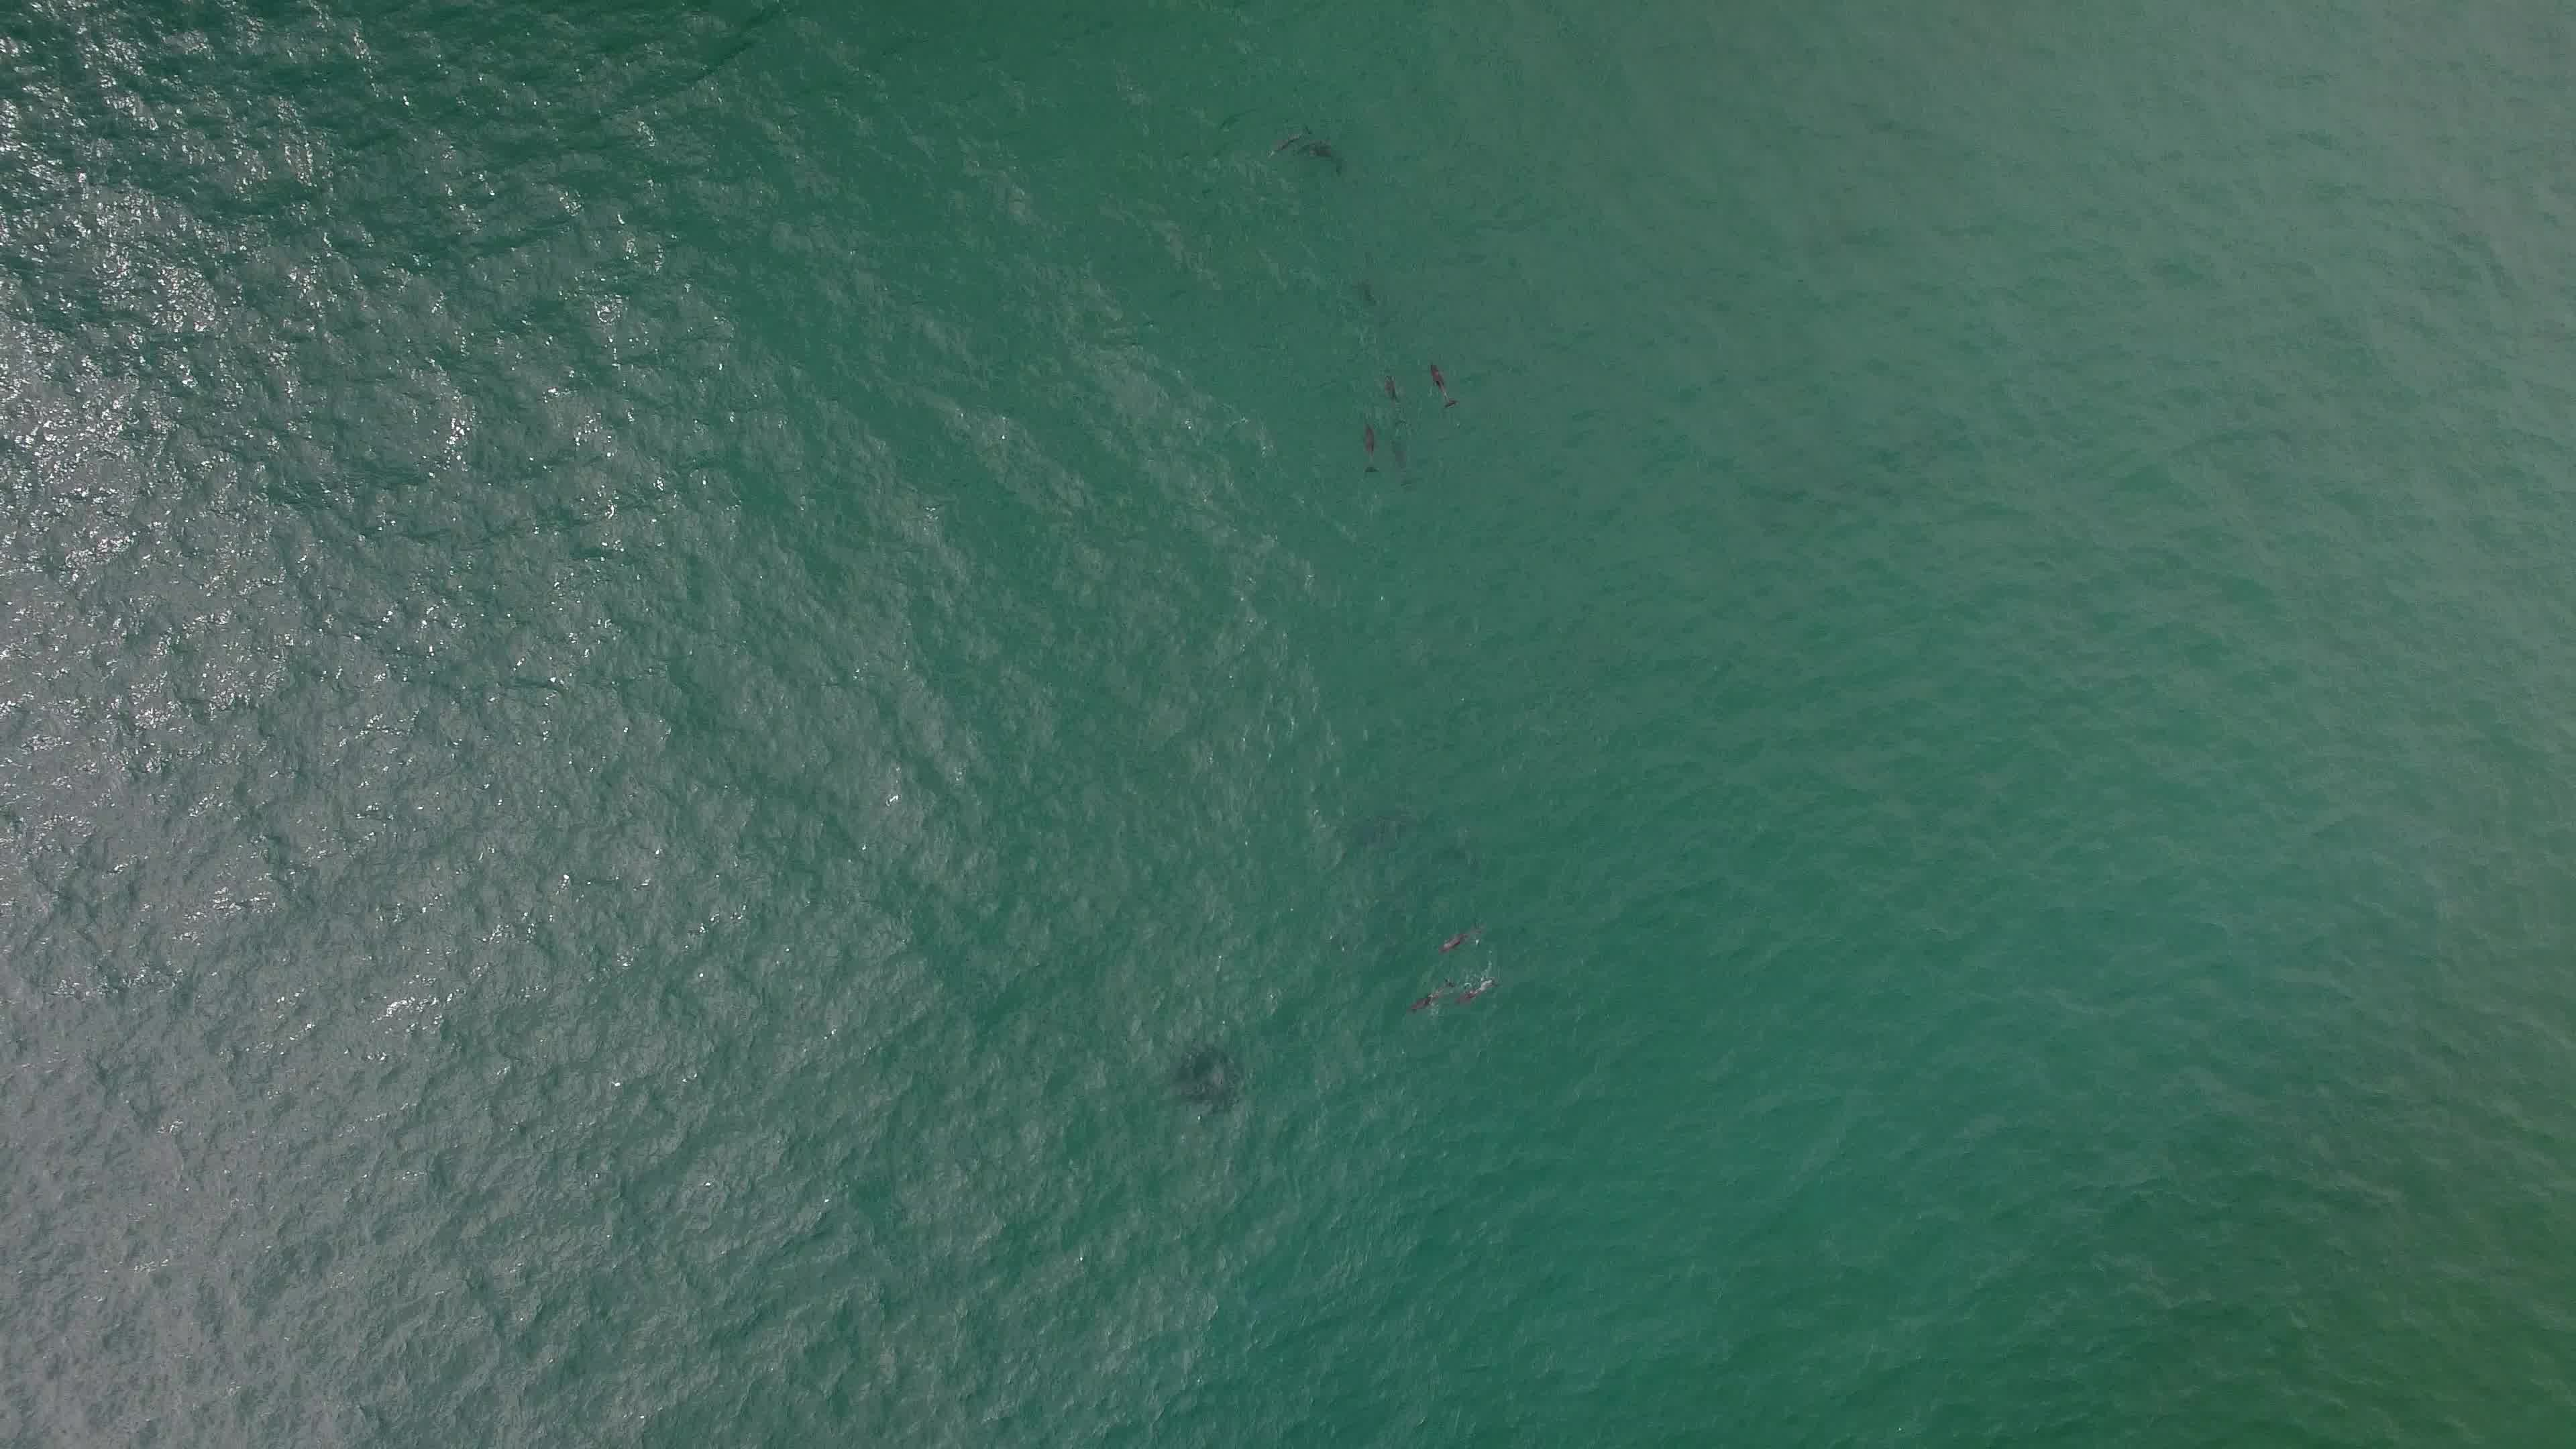dolphin: (1256, 119, 1330, 170), (1369, 345, 1412, 426), (1346, 410, 1389, 479), (1421, 349, 1461, 418)
